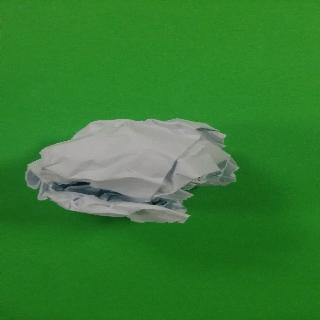8/可回收垃圾/纸: (24, 117, 240, 224)
